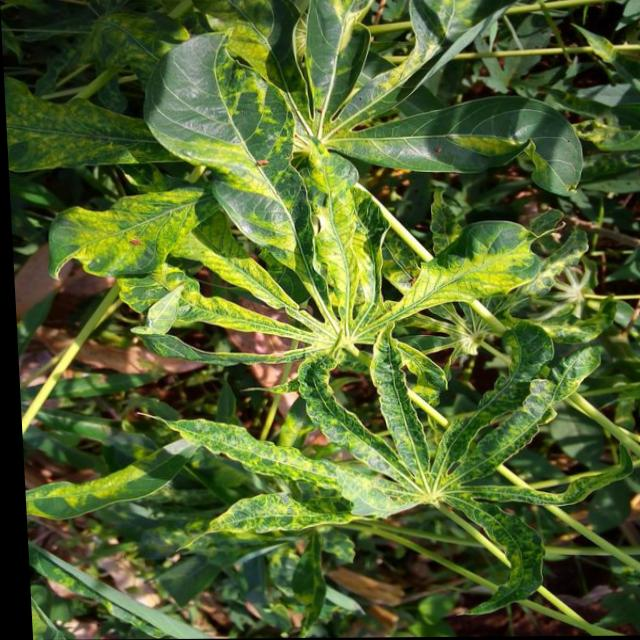Mosaico: (91, 145, 524, 390), (200, 346, 601, 601), (173, 0, 474, 173)
